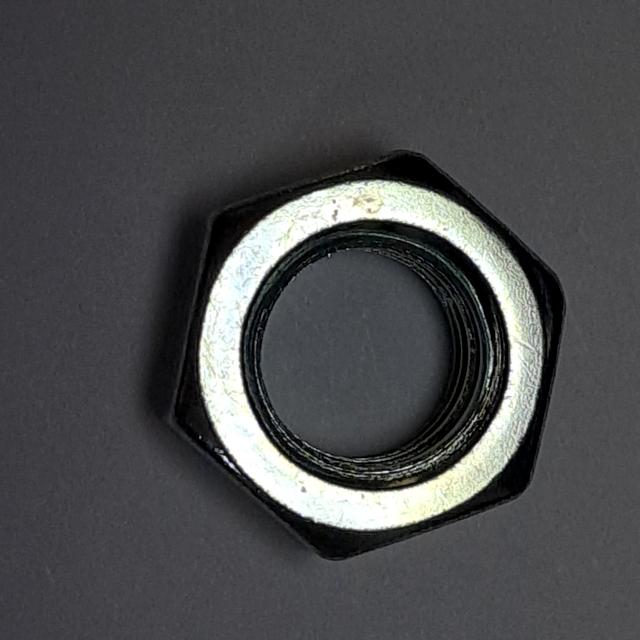Excellent: (147, 132, 577, 582)
